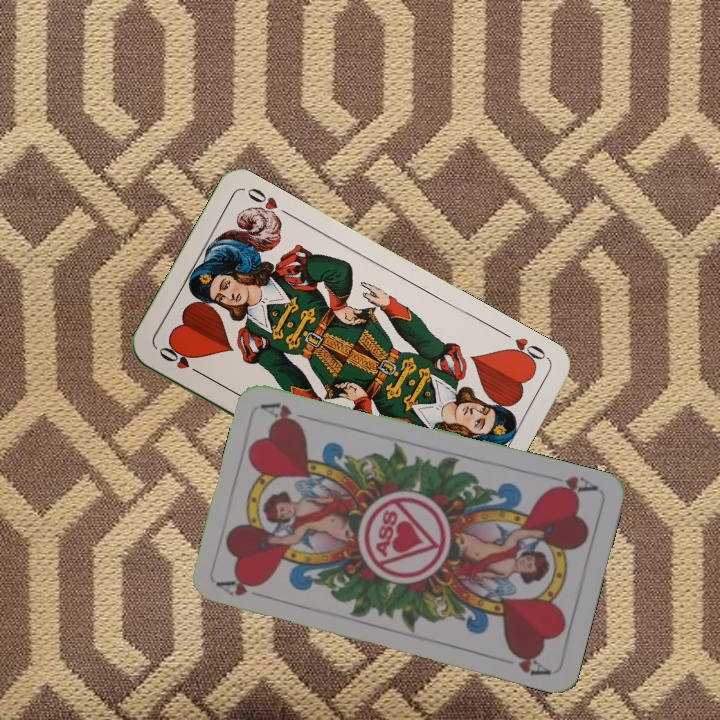HA: (542, 471, 601, 500), (214, 574, 264, 599)
HO: (496, 326, 550, 370), (154, 343, 207, 379)
